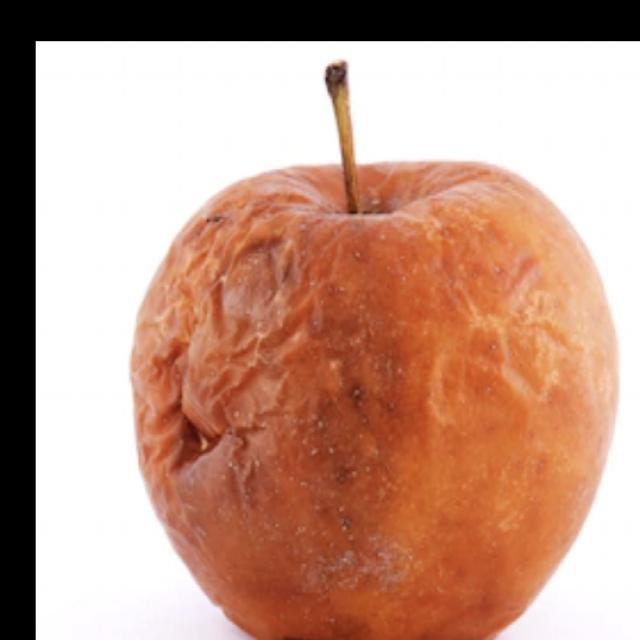Rotten: (142, 140, 625, 640)
